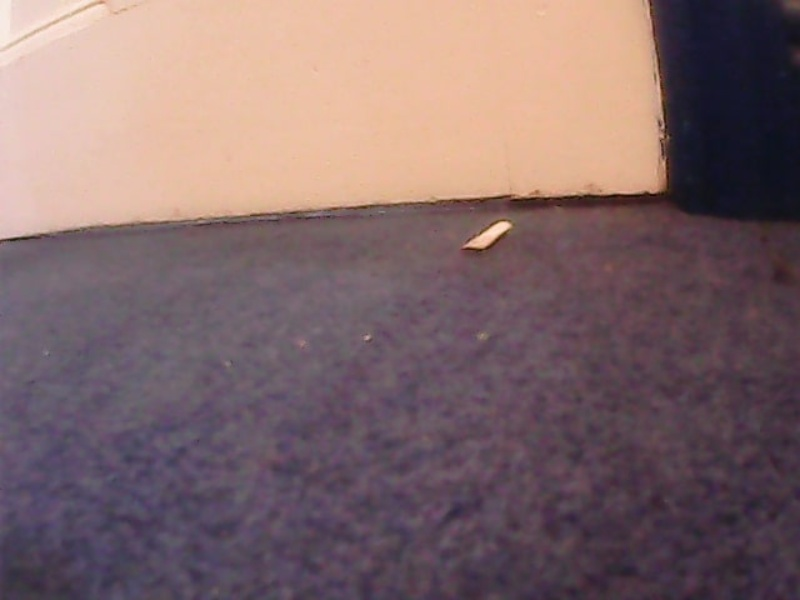cig: (464, 215, 510, 256)
